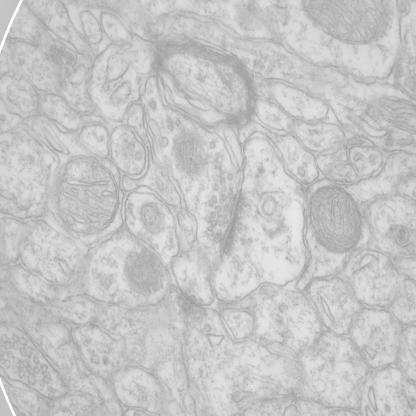mitochondria: (52, 156, 121, 232), (310, 182, 366, 250), (174, 130, 206, 179)
